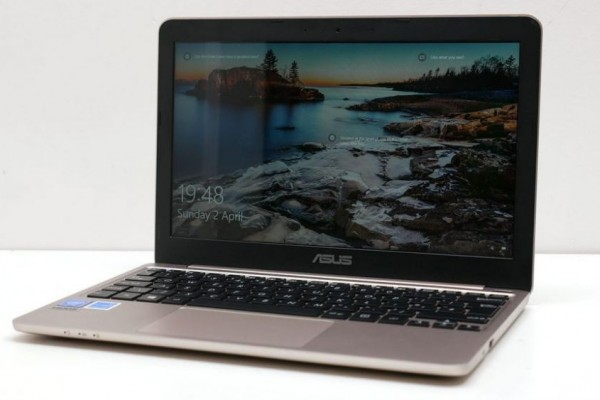Laptop: (12, 9, 555, 385)
